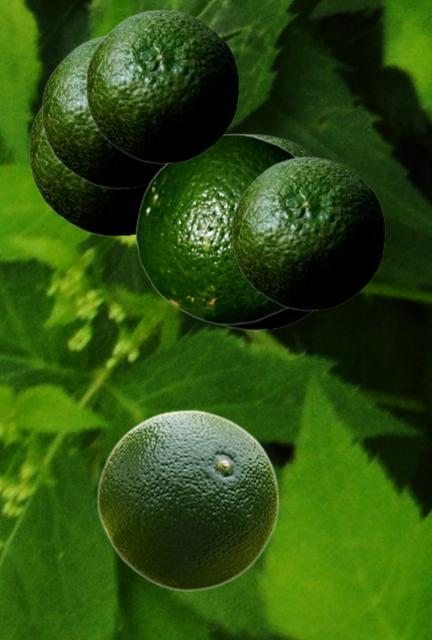calamansi: (96, 409, 279, 590), (135, 133, 297, 324), (85, 9, 238, 163), (231, 156, 384, 310), (216, 133, 318, 330), (41, 35, 163, 188), (28, 104, 146, 236)
